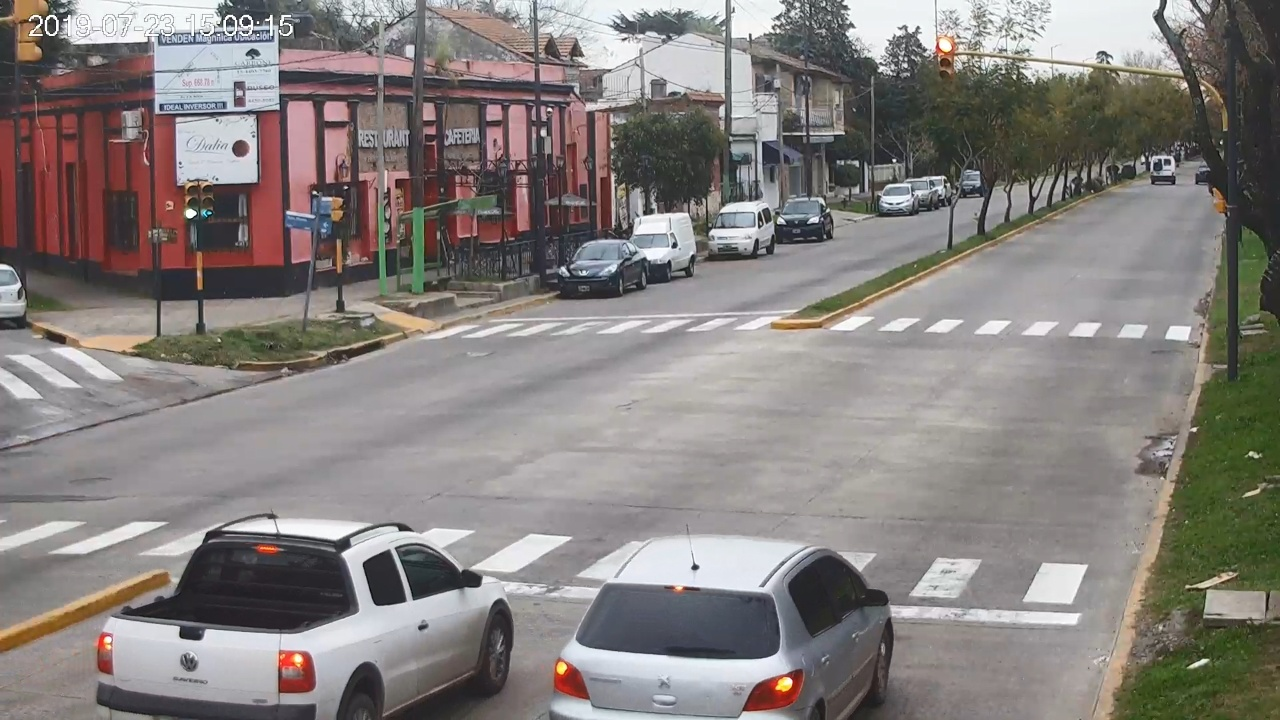car: (95, 514, 515, 720), (550, 534, 895, 720)
traffic light: (937, 37, 955, 81)
